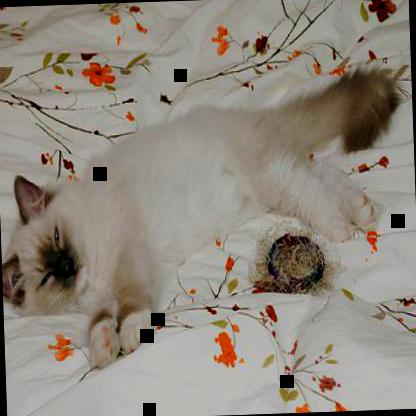cat: (0, 67, 401, 374)
